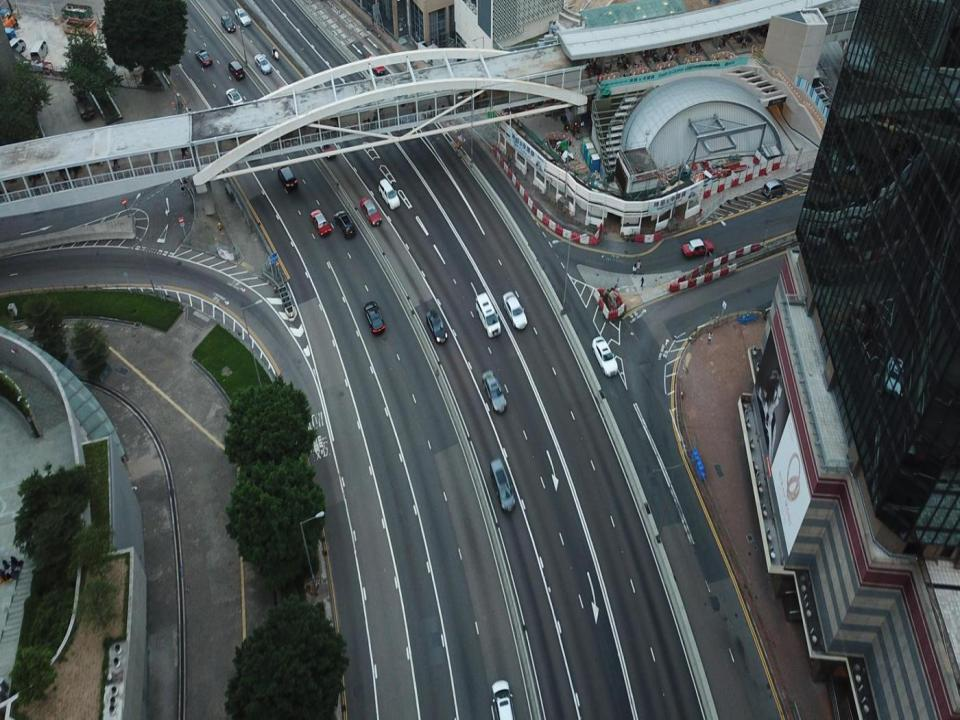car: (591, 334, 618, 378), (482, 369, 508, 414), (490, 677, 513, 719), (504, 290, 528, 330), (363, 301, 386, 336), (680, 238, 714, 260), (426, 310, 448, 344), (359, 197, 383, 228), (333, 210, 357, 240), (309, 209, 333, 238), (276, 164, 299, 192), (761, 178, 787, 198), (365, 53, 387, 76), (227, 58, 248, 82), (224, 86, 245, 110), (316, 138, 338, 160), (194, 47, 215, 68), (253, 53, 272, 74), (234, 8, 252, 28), (220, 15, 236, 33)
van: (490, 458, 515, 513), (474, 292, 500, 340), (378, 177, 400, 211), (0, 36, 27, 53), (29, 38, 48, 62)
